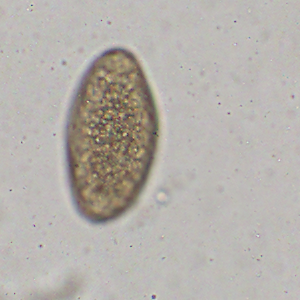Fasciola_hepatica_egg: (61, 42, 163, 224)
